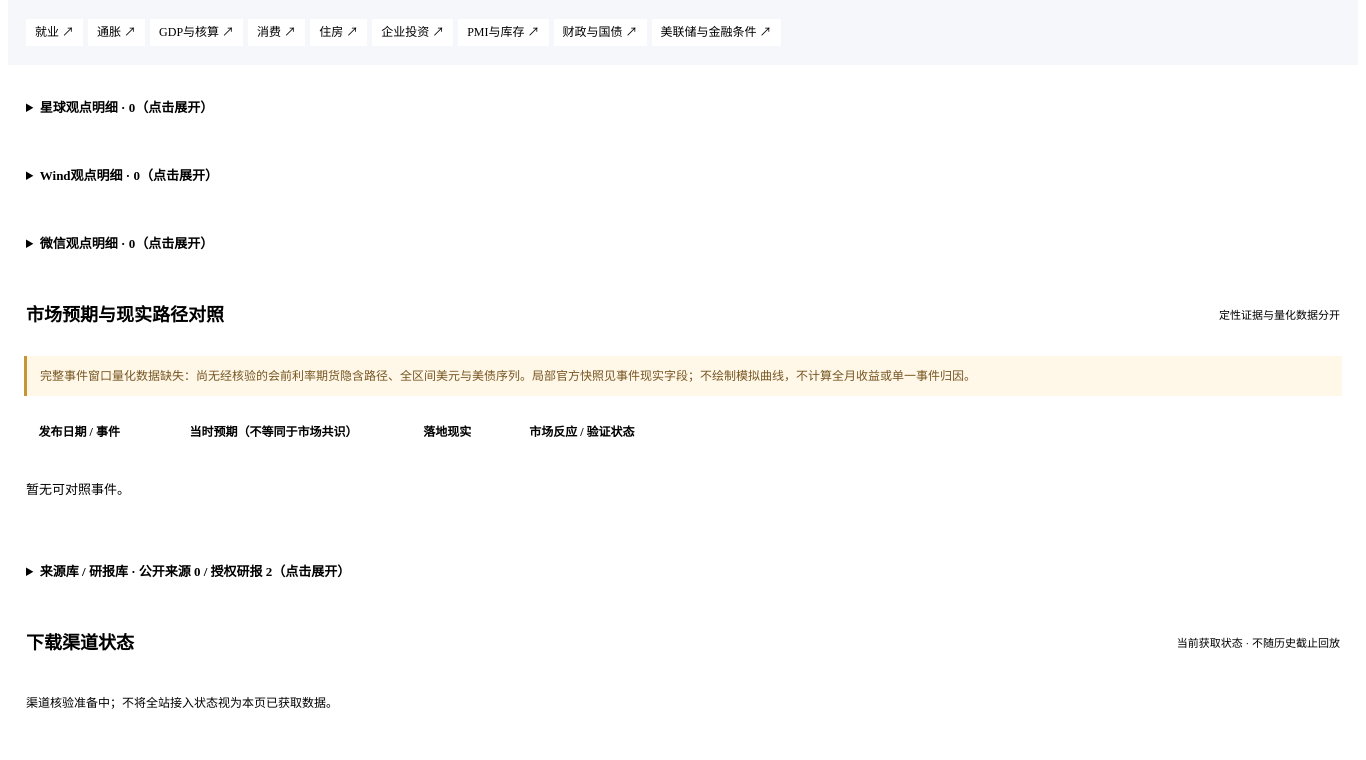
正式研报按印刷刊发日展示，星球按文件名归档日展示，不混用冲突说明
(page scrolled)
What coordinates should you click on to do the following:
click the heading "来源库 / 研报库 · 公开来源 0 / 授权研报 2（点击展开）"
I would click on:
 (195, 571)
Its box is [40,564,350,579].
(page scrolled)
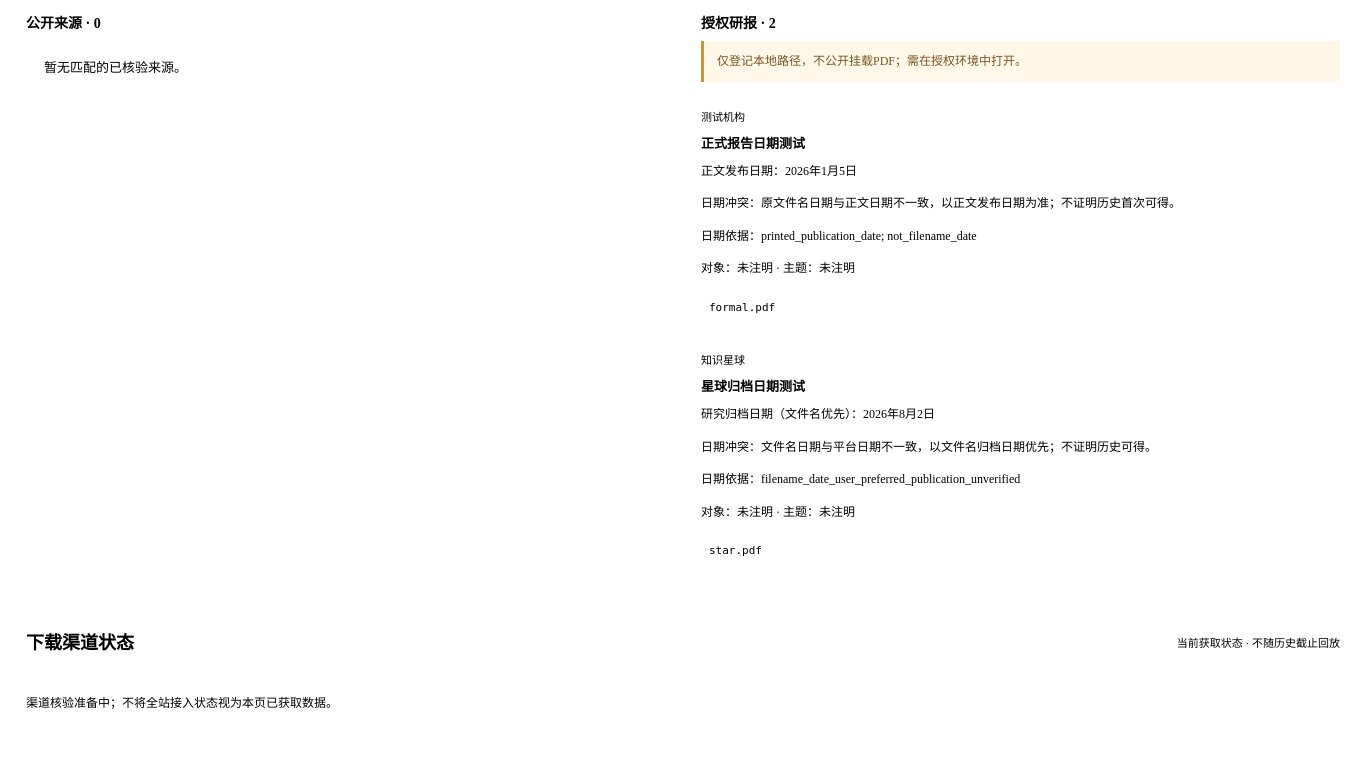
Check: the text "正式报告日期测试" does not show "以文件名归档日期优先", box [701,111,1181,314]
Check: the text "正式报告日期测试" shows "以正文发布日期为准", box [701,196,1181,210]
